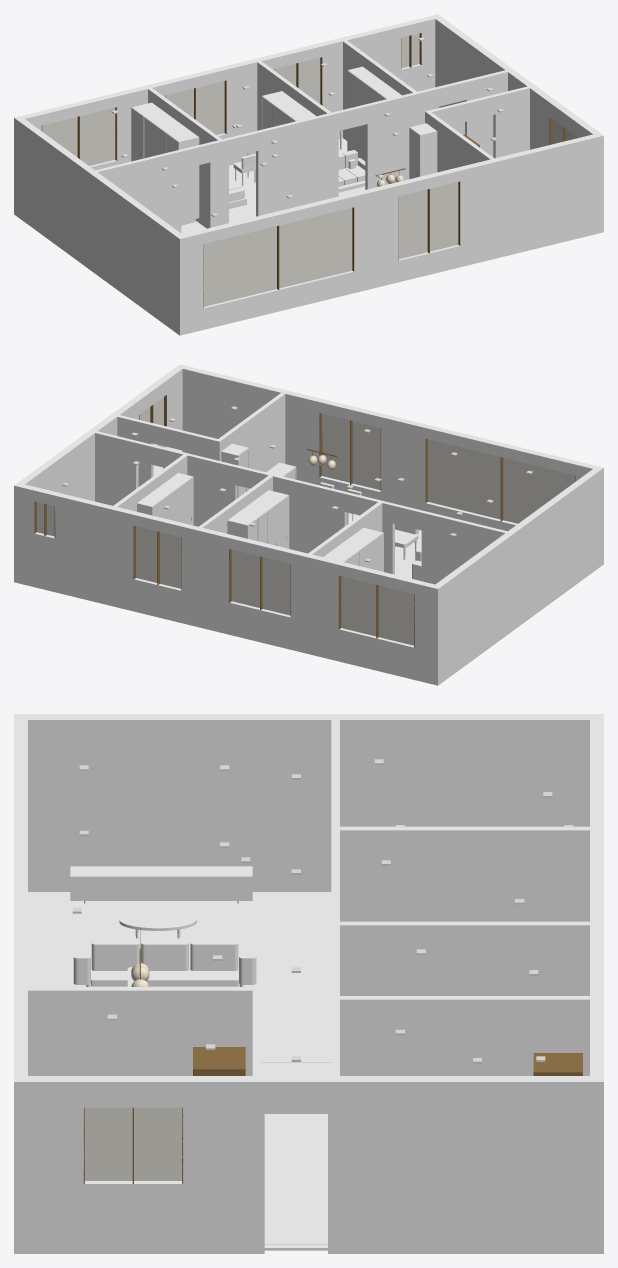
The model's file is interior.glb.
3 views of the same model, one above another, from view 1: azimuth 30°, elevation 25°; view 2: azimuth 150°, elevation 25°; view 3: azimuth 270°, elevation 25° (orthographic). The views are drawn at different scales.
Visible parts, largest first — view 1: W03 W03, W01 W01.006, WIN01 glazing WIN01 glazing, W05 W05.004, W01 W01.003, W05 W05.006, W05 W05, WIN02 glazing WIN02 glazing, W01 W01.001, W02 W02.009, W04 W04.005, W01 W01 (+39 smaller); view 2: W03 W03, W02 W02.009, WIN01 glazing WIN01 glazing, W01 W01.006, W02 W02.006, W02 W02.003, W01 W01.003, WIN03 glazing WIN03 glazing, W05 W05.004, W05 W05, WIN02 glazing WIN02 glazing, W09 W09 (+36 smaller); view 3: W03 W03, W04 W04.005, W06 W06, R07 floor R07 floor, W08 W08, W07 W07, W09 W09, W04 W04.003, W04 W04, R01 floor R01 floor, W04 W04.001, WIN07 glazing WIN07 glazing (+20 smaller).
Boxes of the visible parts, x1=… form: W03 W03: x1=18, y1=119, x2=182, y2=332; W01 W01.006: x1=456, y1=133, x2=603, y2=267; WIN01 glazing WIN01 glazing: x1=204, y1=208, x2=352, y2=306; W05 W05.004: x1=256, y1=111, x2=338, y2=216; W01 W01.003: x1=351, y1=183, x2=398, y2=292; W05 W05.006: x1=365, y1=87, x2=439, y2=189; W05 W05: x1=95, y1=150, x2=181, y2=232; WIN02 glazing WIN02 glazing: x1=399, y1=182, x2=458, y2=259; W01 W01.001: x1=203, y1=270, x2=354, y2=329; W02 W02.009: x1=319, y1=24, x2=400, y2=138; W04 W04.005: x1=435, y1=17, x2=514, y2=107; W01 W01: x1=176, y1=230, x2=203, y2=335; W03 W03: x1=435, y1=469, x2=599, y2=682; W02 W02.009: x1=55, y1=493, x2=136, y2=611; WIN01 glazing WIN01 glazing: x1=428, y1=439, x2=575, y2=523; W01 W01.006: x1=176, y1=364, x2=322, y2=485; W02 W02.006: x1=181, y1=523, x2=232, y2=634; W02 W02.003: x1=291, y1=550, x2=342, y2=661; W01 W01.003: x1=381, y1=414, x2=429, y2=511; WIN03 glazing WIN03 glazing: x1=341, y1=576, x2=413, y2=645; W05 W05.004: x1=264, y1=472, x2=346, y2=553; W05 W05: x1=421, y1=511, x2=507, y2=584; WIN02 glazing WIN02 glazing: x1=322, y1=413, x2=380, y2=490; W09 W09: x1=215, y1=393, x2=285, y2=472; W03 W03: x1=28, y1=714, x2=589, y2=891; W04 W04.005: x1=328, y1=1076, x2=589, y2=1253; W06 W06: x1=340, y1=826, x2=589, y2=921; R07 floor R07 floor: x1=261, y1=892, x2=331, y2=1250; W08 W08: x1=340, y1=996, x2=589, y2=1075; W07 W07: x1=340, y1=921, x2=589, y2=995; W09 W09: x1=28, y1=987, x2=261, y2=1075; W04 W04.003: x1=182, y1=1076, x2=264, y2=1253; W04 W04: x1=28, y1=1076, x2=84, y2=1253; R01 floor R01 floor: x1=28, y1=892, x2=261, y2=986; W04 W04.001: x1=84, y1=1181, x2=182, y2=1253; WIN07 glazing WIN07 glazing: x1=85, y1=1107, x2=181, y2=1180.
Bounding box in the file's own units: 12.4 × 2.74 × 8.4.
